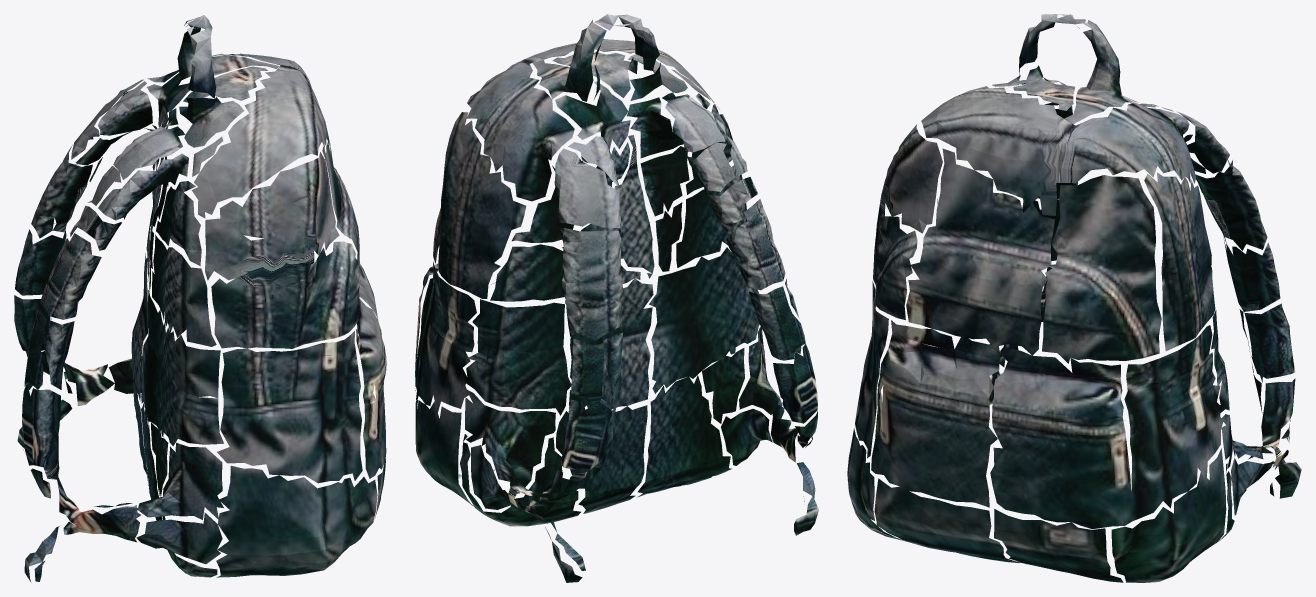
Rendered from pack_black.glb.
3 views of the same model, side by side, from view 1: azimuth 30°, elevation 25°; view 2: azimuth 150°, elevation 25°; view 3: azimuth 270°, elevation 25° (orthographic). The views are drawn at different scales.
Size of the model in its own units: 0.6473 by 0.8388 by 0.6592.
1 material, 1 textured.
